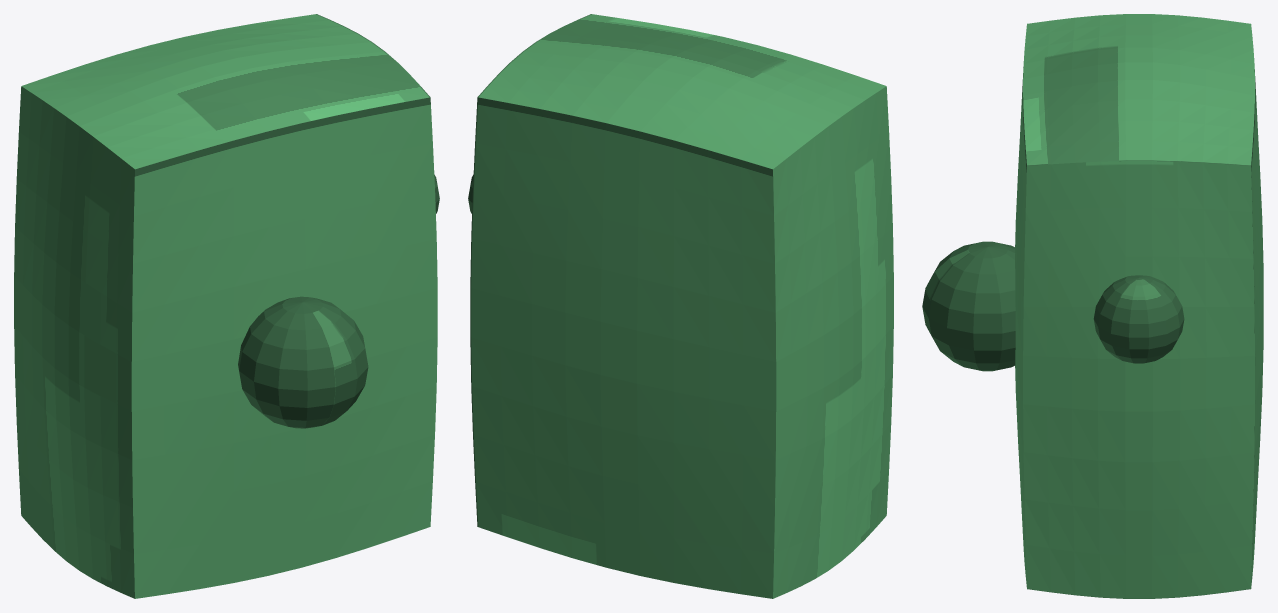
The model's file is one_sided_prop.glb.
3 views of the same model, side by side, from view 1: azimuth 30°, elevation 25°; view 2: azimuth 150°, elevation 25°; view 3: azimuth 270°, elevation 25° (orthographic).
Parts seen in each view (by area): view 1: geometry_0; view 2: geometry_0; view 3: geometry_0.
Part boxes in pixels (left/top/right/bottom): geometry_0: left=14, top=14, right=439, bottom=598; geometry_0: left=468, top=14, right=893, bottom=598; geometry_0: left=922, top=14, right=1263, bottom=598.
Bounding box in the file's own units: 0.8385 × 1.03 × 0.6772.
Materials: 1 (1 with a texture image).
